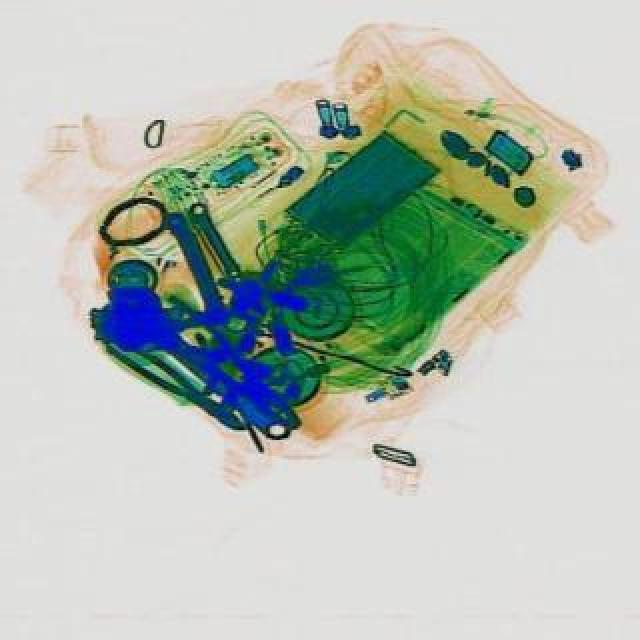scissors: (86, 270, 306, 458)
wrench: (100, 328, 248, 440)
